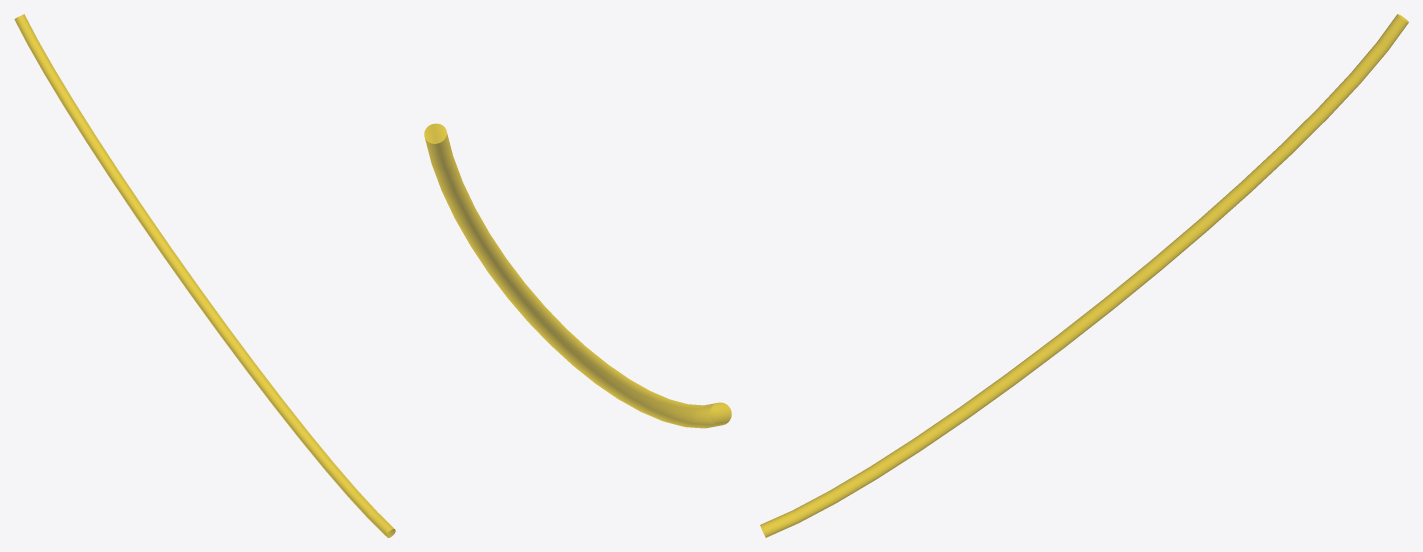
The model's file is Event_100608114_track_36.fbx.
3 renders of one model, left to right at view 1: azimuth 30°, elevation 25°; view 2: azimuth 150°, elevation 25°; view 3: azimuth 270°, elevation 25°, orthographic. The views are drawn at different scales.
Visible parts, largest first — view 1: Model; view 2: Model; view 3: Model.
Boxes of the visible parts, x1,y1,x2,y2 form: Model: (14, 14, 395, 537); Model: (424, 123, 731, 428); Model: (760, 14, 1408, 537).
Bounding box in the file's own units: 0.4988 × 1.4 × 1.81.
